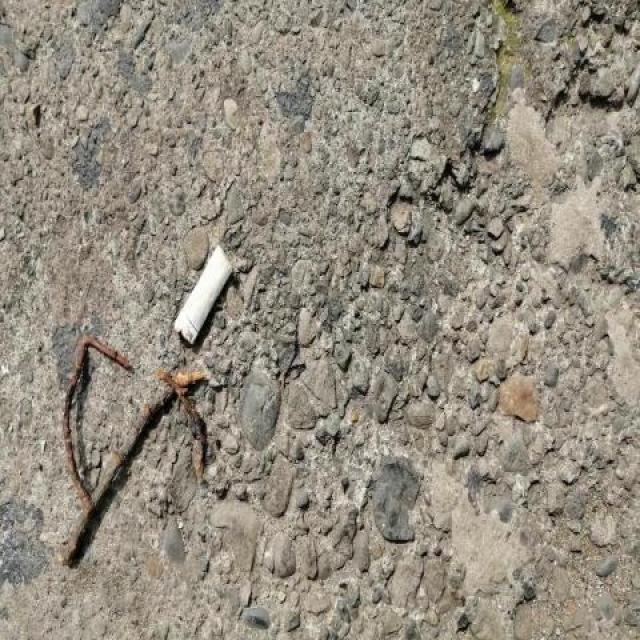non-organic waste: (168, 238, 240, 351)
